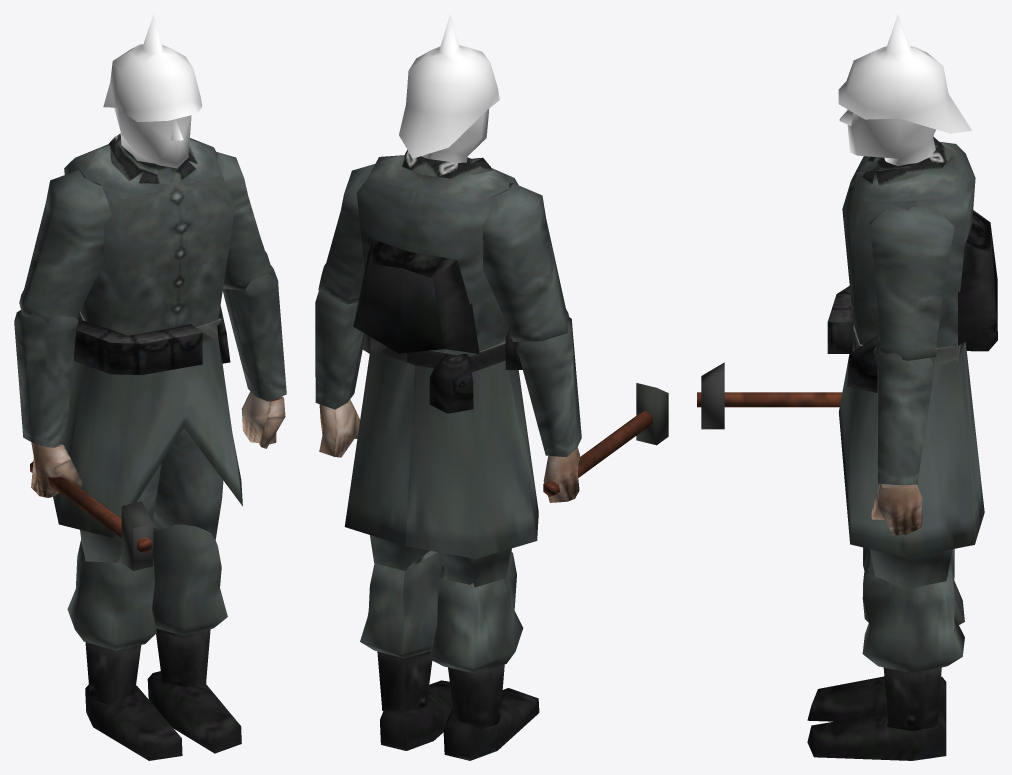
File: gerinfeng.dae
The picture shows the model from 3 angles, left to right: view 1: azimuth 30°, elevation 25°; view 2: azimuth 150°, elevation 25°; view 3: azimuth 270°, elevation 25°; orthographic projection.
Visible parts, largest first — view 1: torso, lloleg, rloleg, head, ruparm, rloarm, lloarm, lupleg, lfoot, rfoot, luparm, hammer (+3 smaller); view 2: torso, rloleg, ruparm, head, lloleg, rloarm, lloarm, luparm, rfoot, hammer, lfoot, rupleg (+3 smaller); view 3: torso, lloleg, head, luparm, lloarm, lfoot, hammer, rfoot, lupleg, lhand, rloleg.
Boxes of the visible parts, box(x1,y1,x2,y2) form: torso: box(53, 133, 242, 537); lloleg: box(152, 524, 227, 687); rloleg: box(67, 539, 156, 704); head: box(103, 14, 202, 168); ruparm: box(19, 169, 111, 321); rloarm: box(14, 310, 78, 447); lloarm: box(222, 264, 286, 401); lupleg: box(152, 428, 223, 539); lfoot: box(147, 671, 241, 753); rfoot: box(85, 684, 182, 760); luparm: box(216, 152, 272, 290); hammer: box(30, 461, 153, 570); torso: box(344, 150, 538, 558); rloleg: box(430, 552, 523, 729); ruparm: box(482, 183, 569, 341); head: box(399, 14, 499, 162); lloleg: box(360, 551, 442, 713); rloarm: box(518, 317, 581, 457); lloarm: box(315, 290, 364, 409); luparm: box(318, 164, 374, 304); rfoot: box(443, 688, 539, 760); hammer: box(543, 383, 668, 496); lfoot: box(380, 680, 453, 750); rupleg: box(441, 548, 511, 587); torso: box(827, 136, 997, 557); lloleg: box(862, 548, 964, 731); head: box(838, 14, 971, 166); luparm: box(869, 204, 954, 360); lloarm: box(874, 343, 933, 484); lfoot: box(807, 712, 946, 760); hammer: box(697, 362, 842, 429); rfoot: box(807, 676, 946, 721); lupleg: box(870, 549, 952, 590); lhand: box(871, 483, 922, 535); rloleg: box(862, 547, 964, 624).
Size of the model in its own units: 8.7 by 8.99 by 23.75.
Materials: 4 (1 with a texture image).
